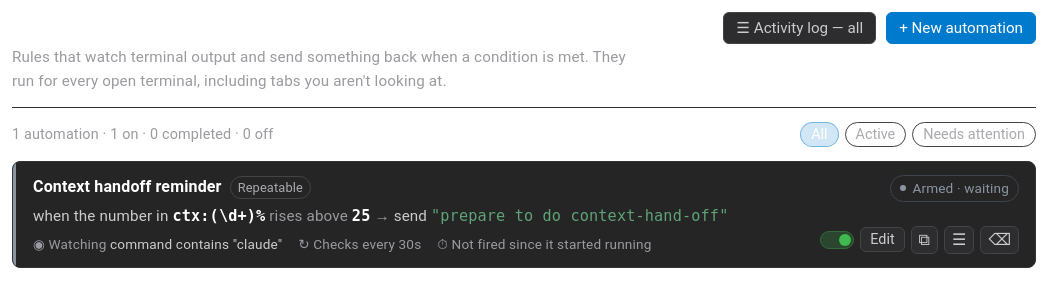
Test: AutomationsPanel › the log view says a read FAILED rather than that nothing has happened
Click the button named "Activity log for Context handoff reminder" at (959,240), box [944, 226, 974, 254]
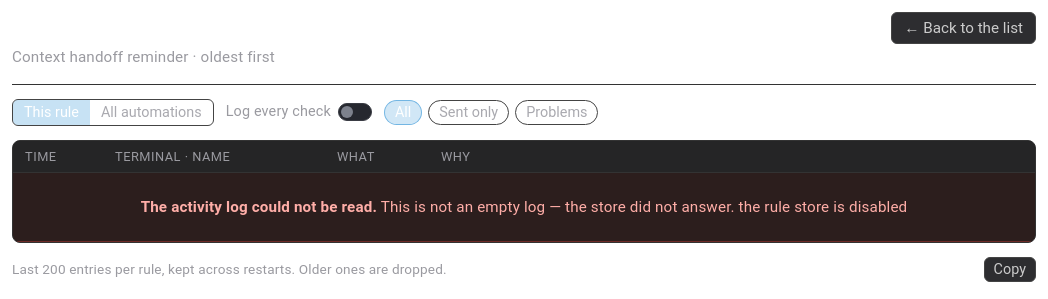
Now the element with class "au-logrows" shows "could not be read", box [141, 198, 377, 216]
